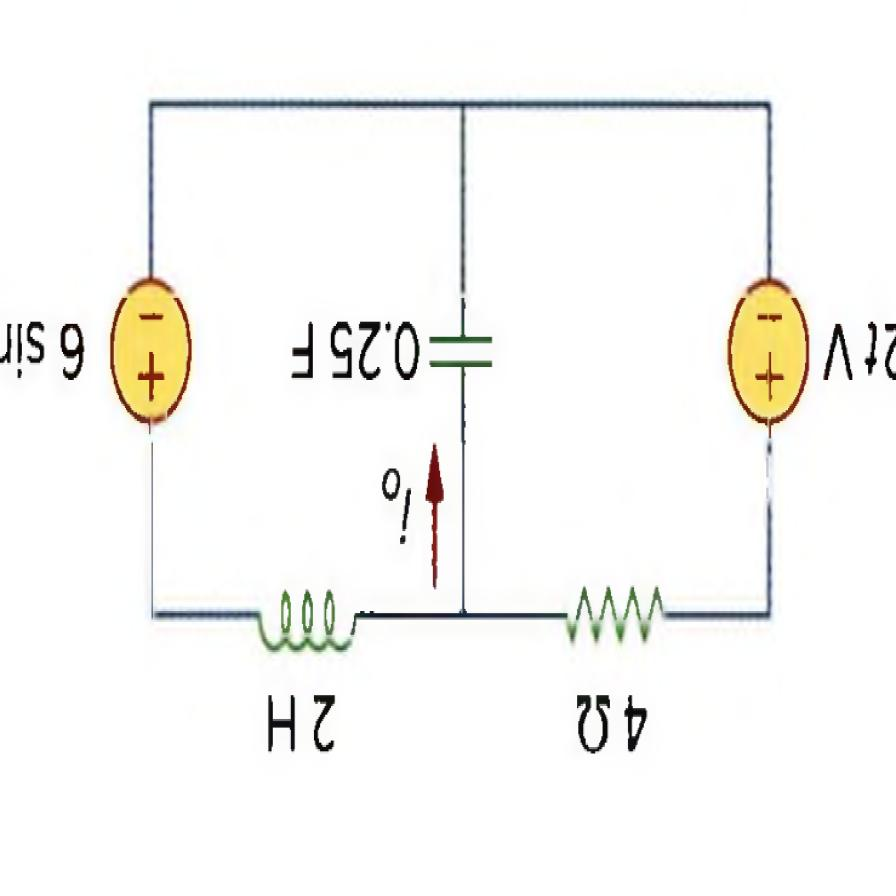C2: (425, 309, 498, 386)
V3: (728, 258, 812, 428), (104, 281, 196, 427)
